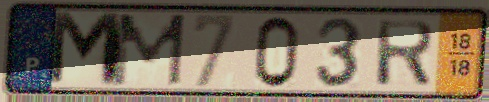0: (251, 14, 302, 90)
3: (313, 15, 367, 91)
7: (190, 11, 241, 91)
M: (44, 10, 127, 90), (110, 11, 189, 89)
R: (373, 18, 437, 89)
